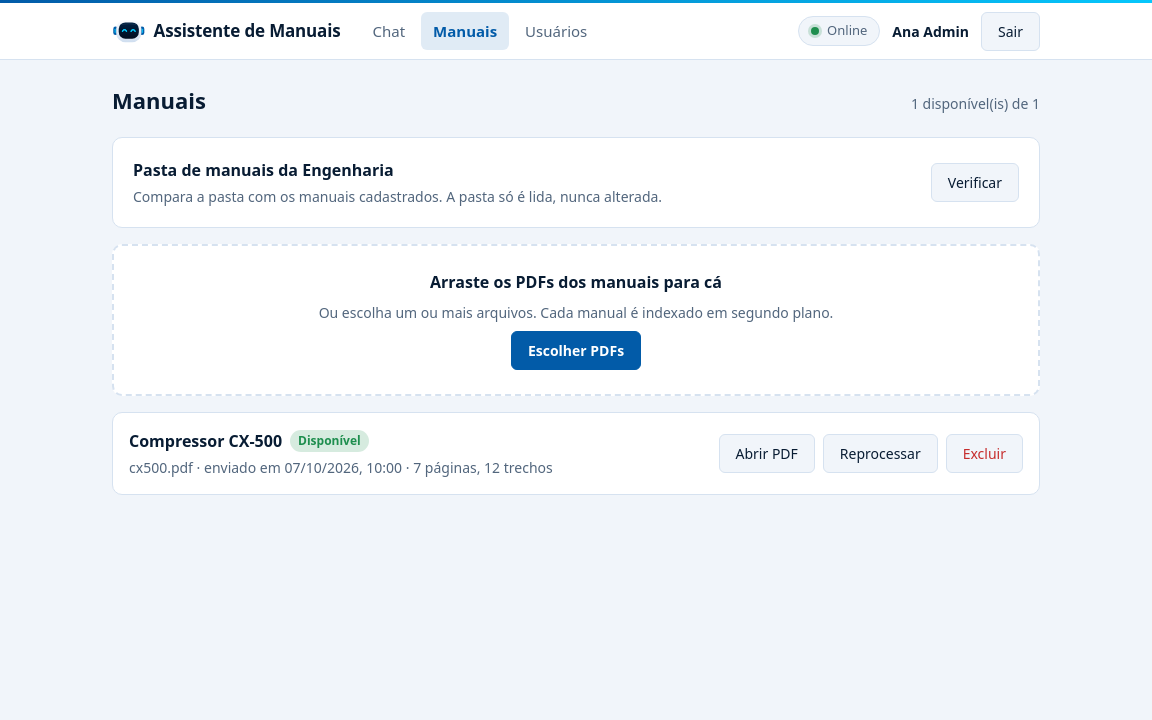
Test: <ManualsAdmin /> › reindexes and deletes after confirmation
The image size is (1152, 720).
Click the button "Reprocessar" at (880, 454), box [823, 434, 938, 473]
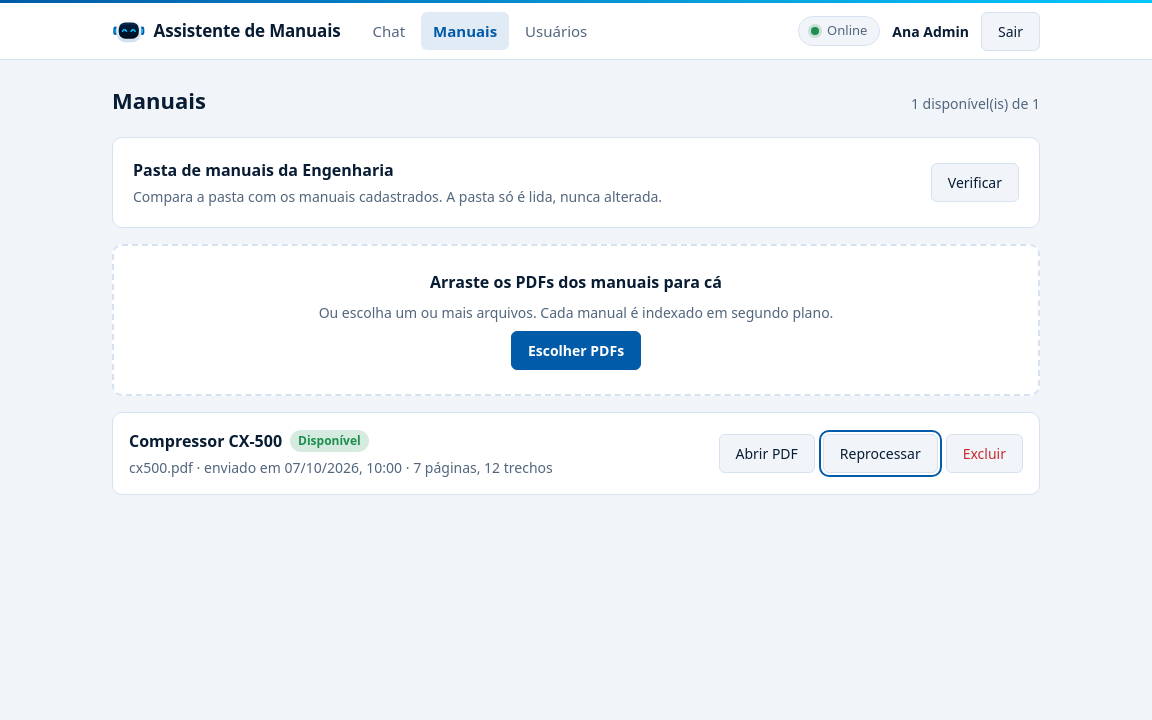
Click the button "Excluir" at (984, 454), box [946, 434, 1023, 473]
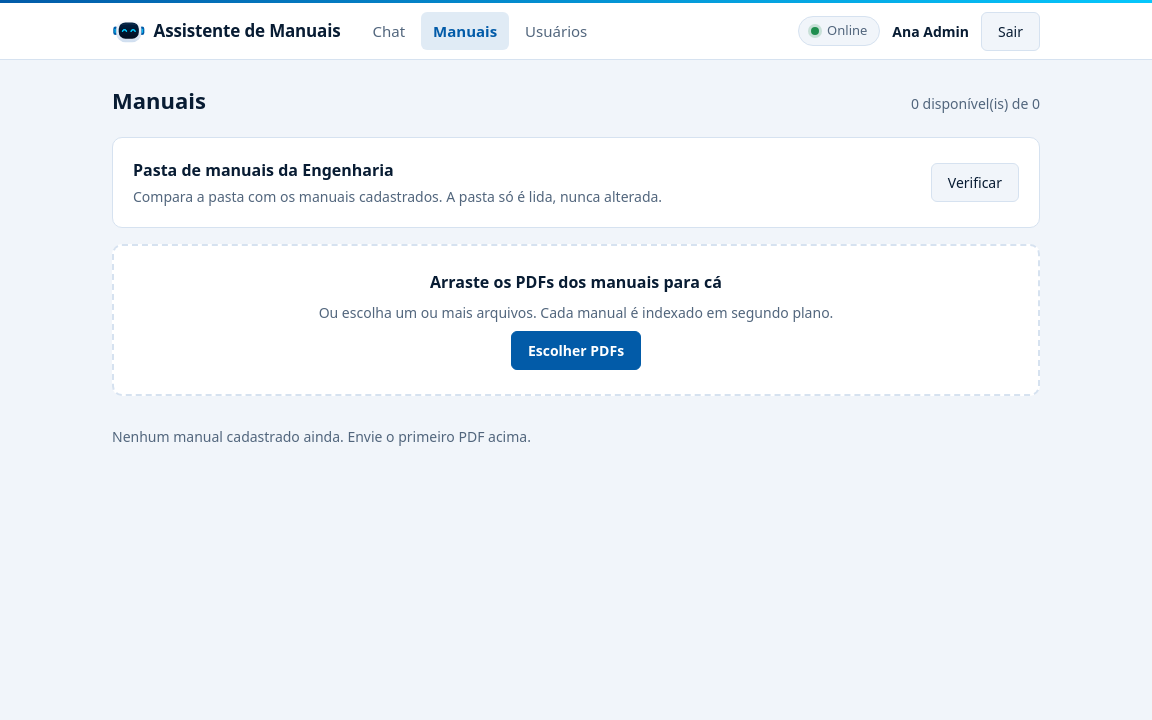
Result: the text "Nenhum manual cadastrado ainda. Envie o primeiro PDF acima." is shown at [112, 427, 531, 446]
